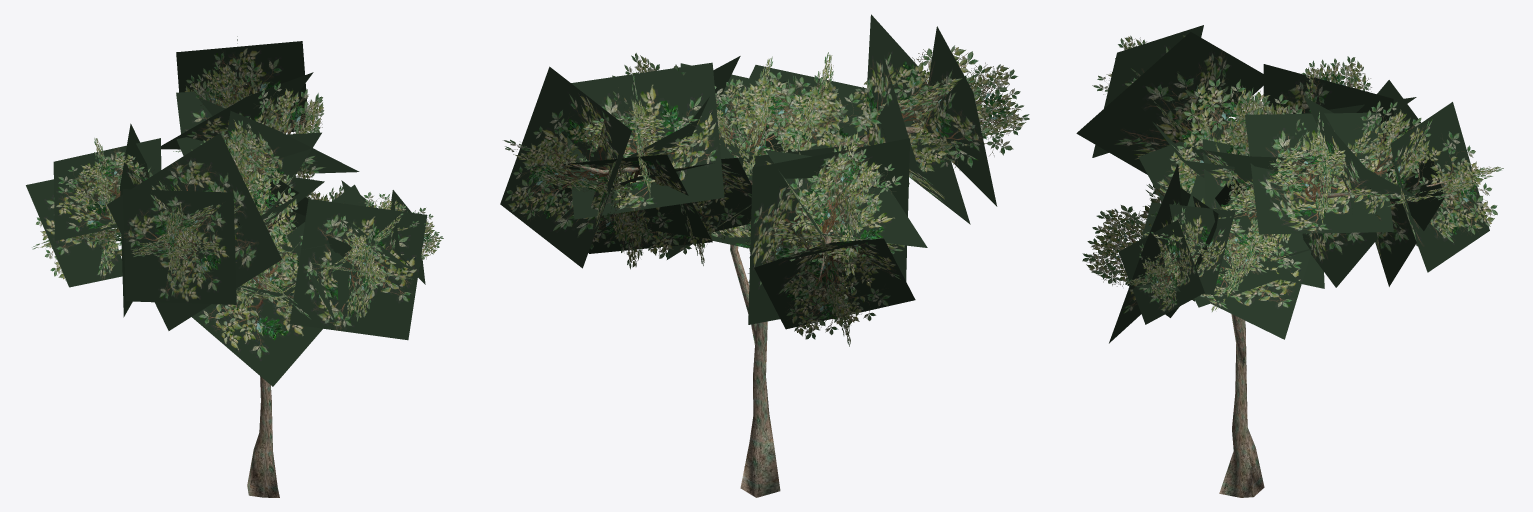
Rendered from decd_dogwoodtreeleaves_a2_l0.fbx.
The picture shows the model from 3 angles, left to right: view 1: azimuth 30°, elevation 25°; view 2: azimuth 150°, elevation 25°; view 3: azimuth 270°, elevation 25°; orthographic projection. The views are drawn at different scales.
Parts seen in each view (by area): view 1: mesh_node; view 2: mesh_node; view 3: mesh_node.
Boxes of the visible parts, x1,y1,x2,y2 form: mesh_node: (26,36,443,497); mesh_node: (500,14,1029,497); mesh_node: (1076,25,1503,497).
Bounding box in the file's own units: 16.48 × 18.6 × 17.75.
